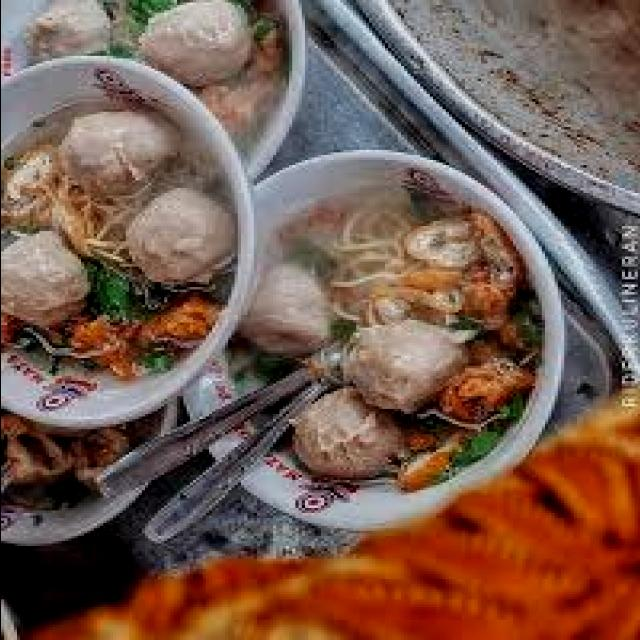bakso: (240, 165, 544, 485)
